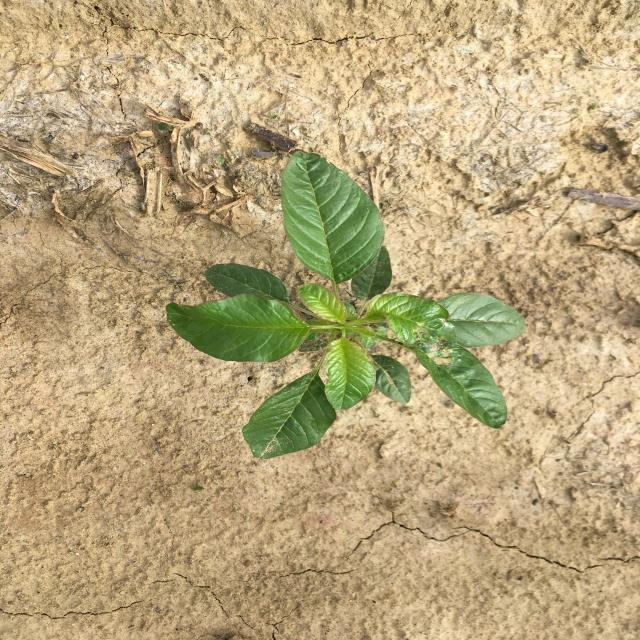Waterhemp: (166, 151, 526, 461)
